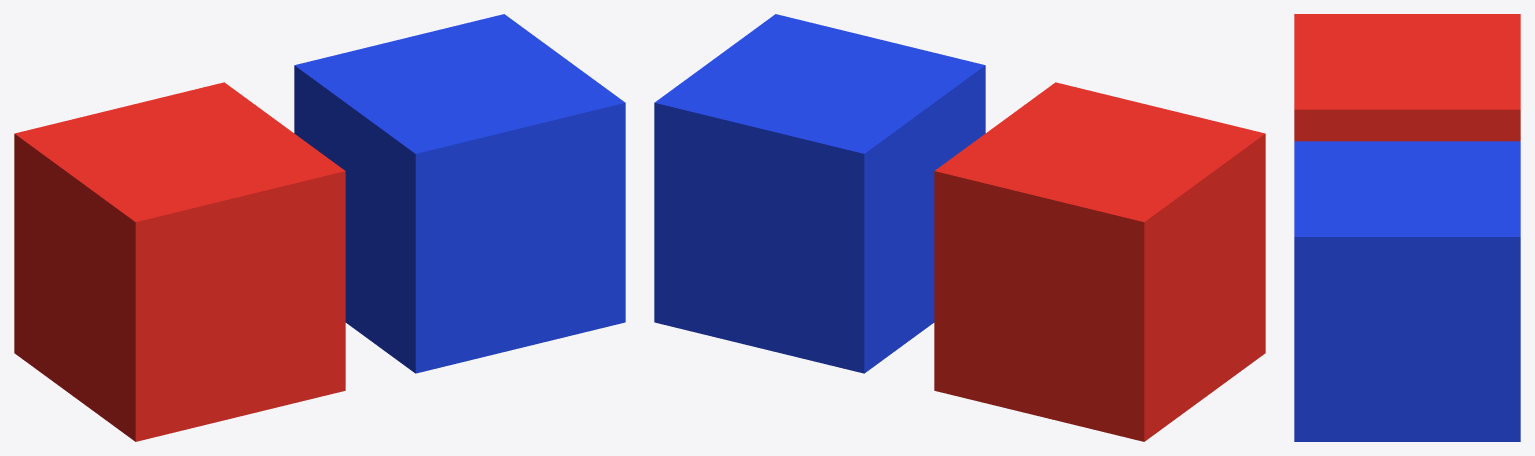
File: Dual.glb
The picture shows the model from 3 angles, left to right: view 1: azimuth 30°, elevation 25°; view 2: azimuth 150°, elevation 25°; view 3: azimuth 270°, elevation 25°; orthographic projection. The views are drawn at different scales.
Bounding box in the file's own units: 2.1 × 0.9 × 0.9.
